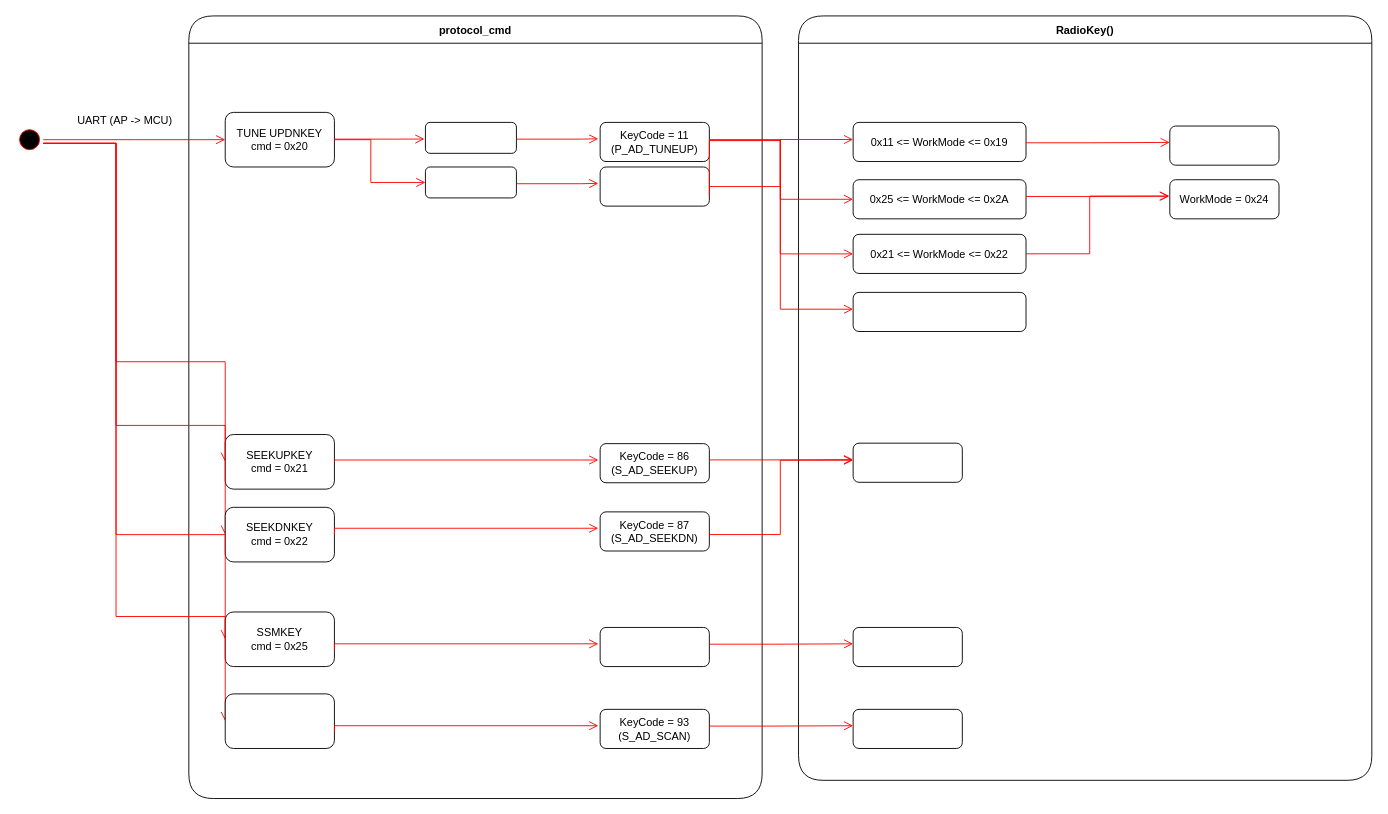
Some shapes in this 1388 by 814 pixel diagram are drawn without their labels. The centre of each missing label's shape, as x and y in pixels:
"data = 0x01 (tune up)" belongs at point (470, 137).
"data = 0x02 (tune down)" belongs at point (470, 182).
"KeyCode = 12 ( P_AD_TUNEDN )" belongs at point (654, 186).
"KeyCode = 92 ( S_AD_BSM )" belongs at point (654, 647).
"PSCANKEY cmd = 0x29" belongs at point (279, 720).
"WorkMode = 0x1B" belongs at point (1224, 145).
"위의 조건에 해당하지 않는 경우" belongs at point (939, 311).
